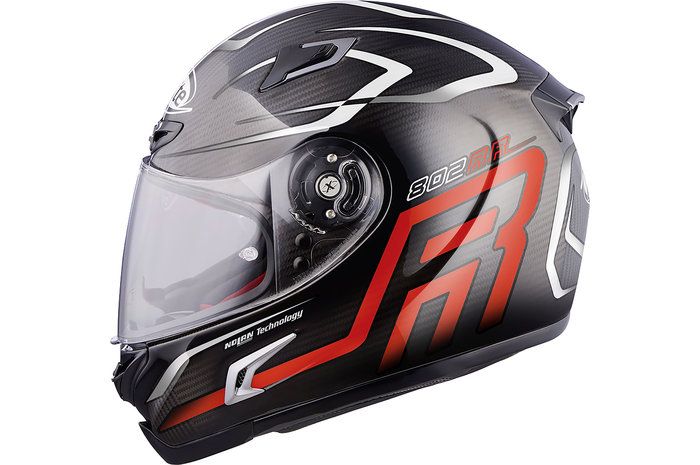with_helmet: (110, 1, 593, 464)
